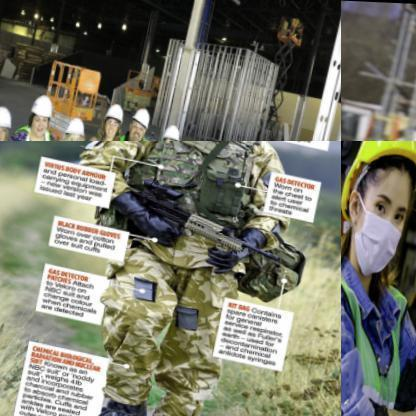Boots: (346, 139, 415, 240), (26, 91, 57, 121)
